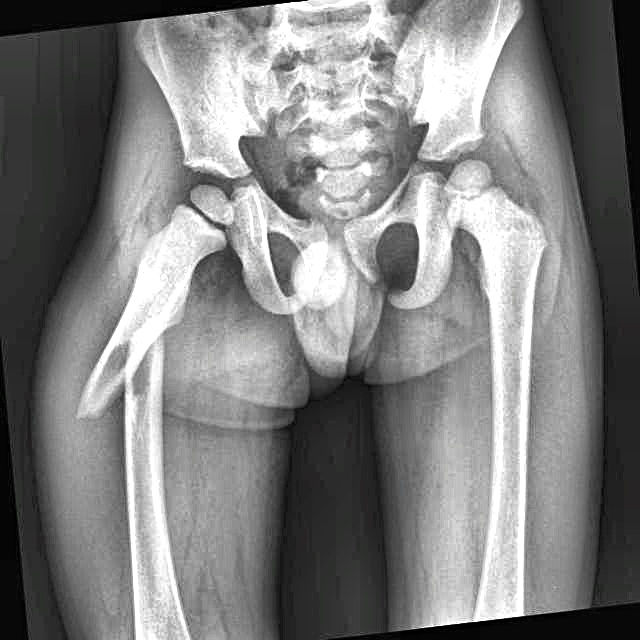Oblique: (70, 302, 190, 446)
